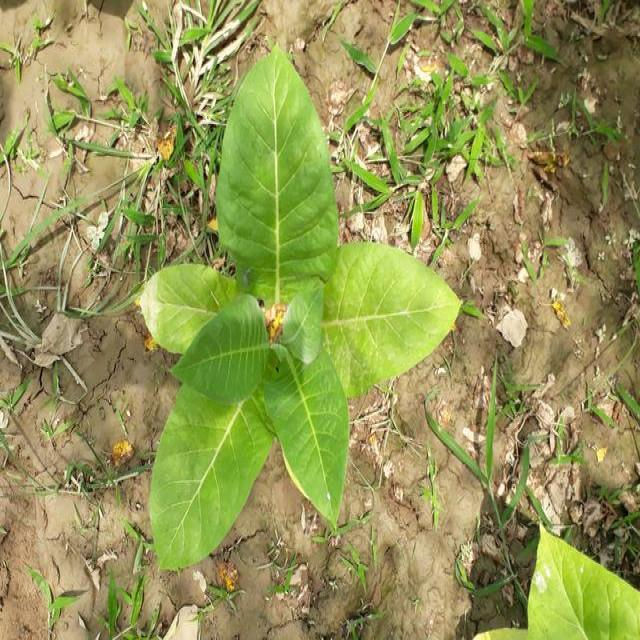crop: (143, 47, 452, 561), (498, 521, 639, 640)
